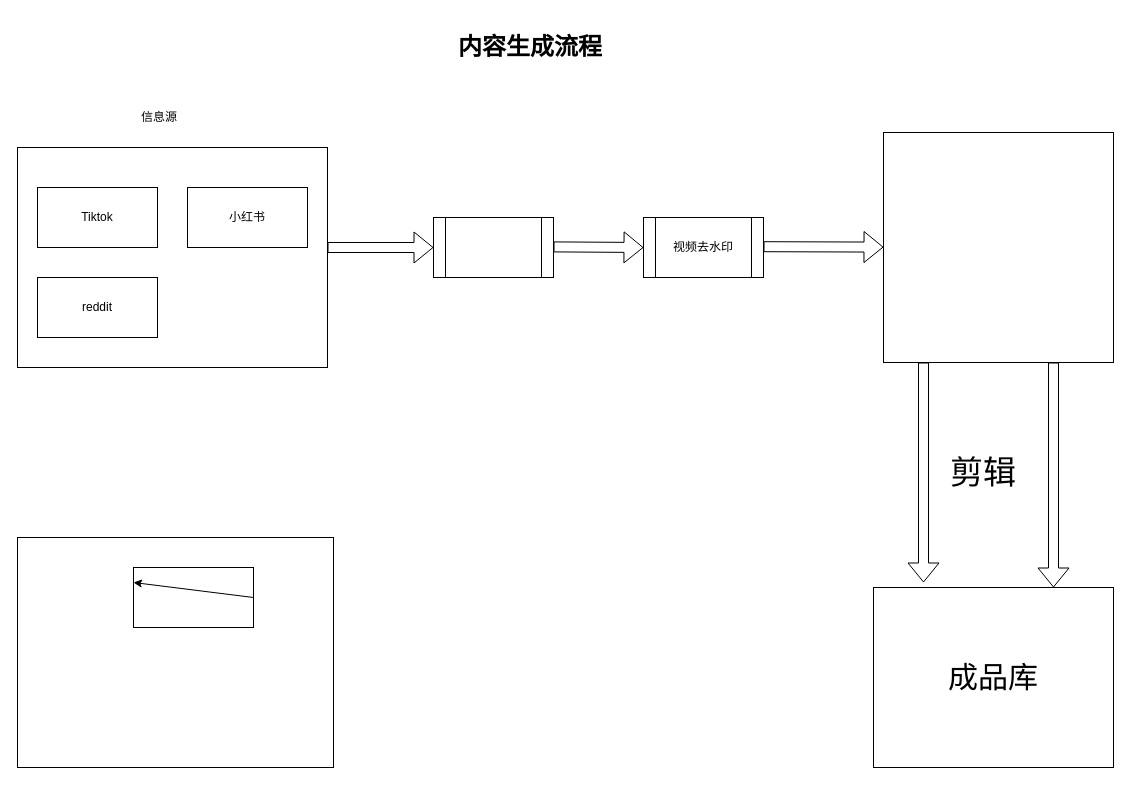
This 1131x785 diagram has some shape labels left out. The box of each missing label's shape, as (x1, y1, x2, y2) in pixels:
素材库: (882, 132, 1114, 362)
视频地址拾取: (432, 216, 554, 278)
